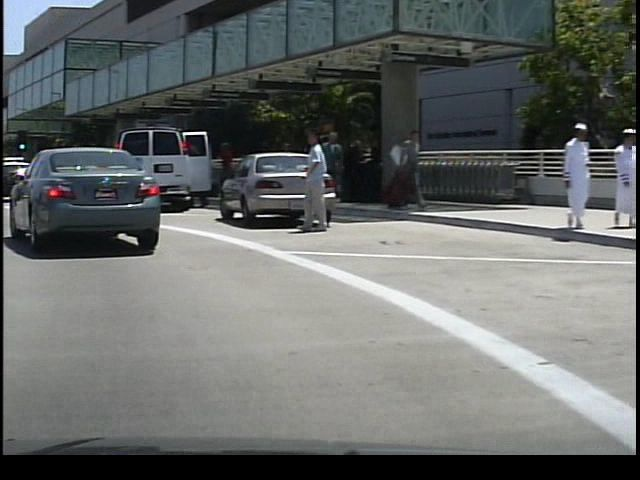person: (548, 123, 587, 235), (291, 126, 329, 236), (600, 126, 633, 231), (386, 124, 420, 215), (319, 127, 347, 210), (211, 138, 234, 203)
